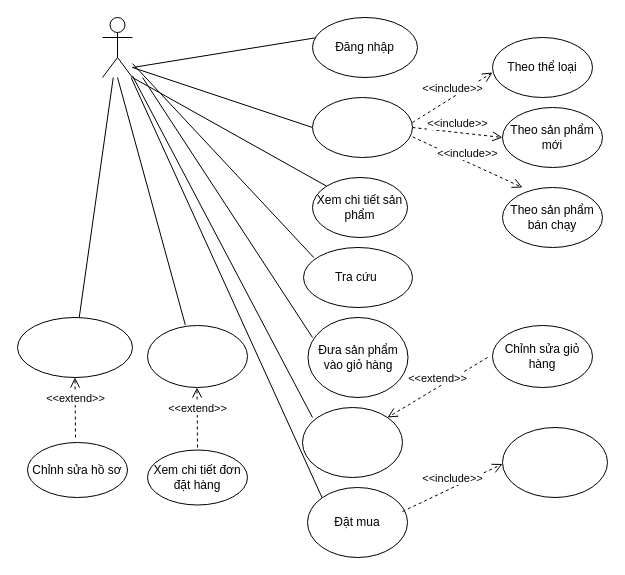
The diagram is 625 pixels wide and 575 high, and some of its shapes have lost their labels. The shapes that lost their labels are listed below. From the top down, each one's centre as x and y in pixels, then its label:
(117,47): Khach hang thanh vien
(362,127): Xem sản phẩm
(74,347): Quản lí tài khoản user
(197,356): Đơn hàng
(352,442): Xem giỏ hàng
(555,462): Nhập đầy đủ thông tin để mua hàng
